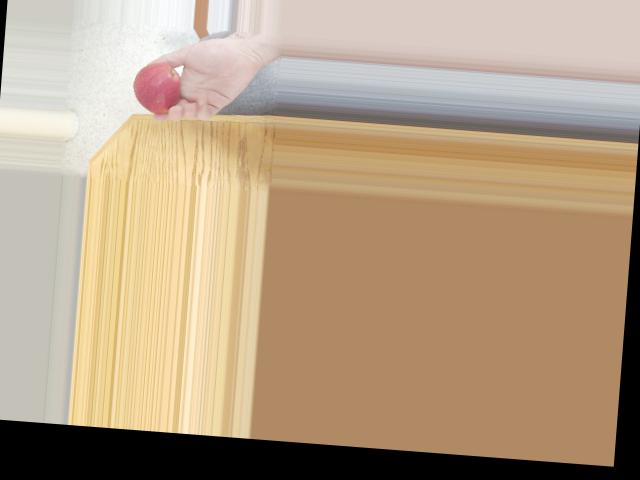apple: (129, 60, 183, 114)
